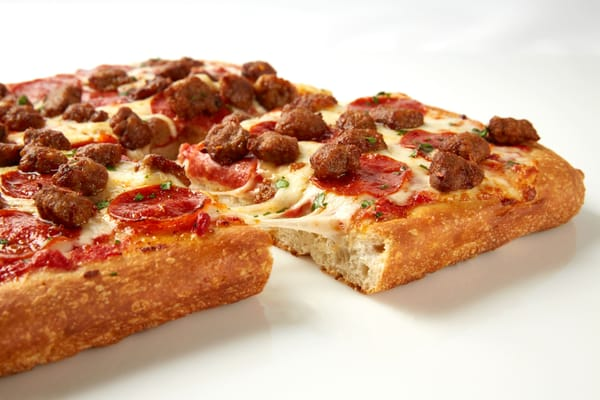sandwich: (1, 53, 594, 374)
